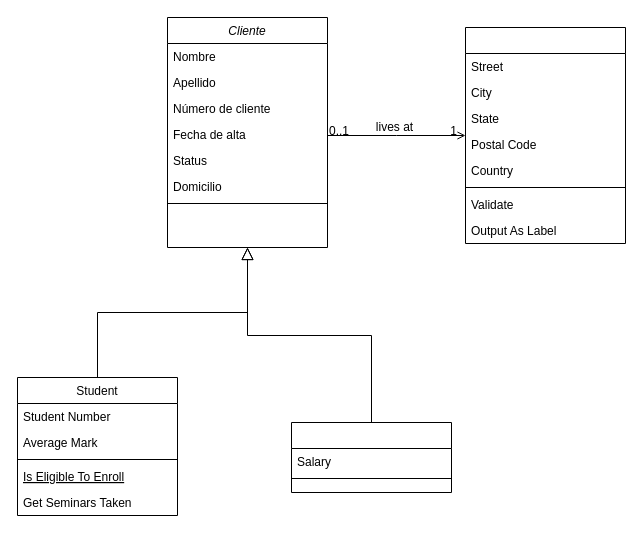
The diagram is 643 pixels wide and 536 high, and some of its shapes have lost their labels. Each missing label, with the box of its shape:
Address: (464, 26, 626, 244)
Professor: (290, 422, 452, 492)
